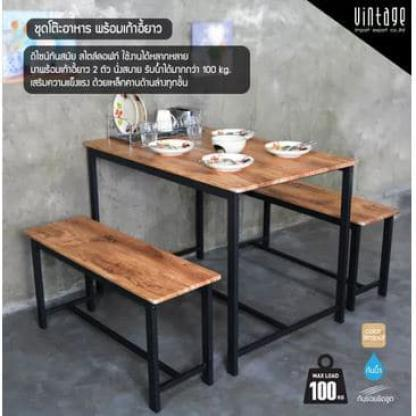table: (78, 119, 362, 380)
